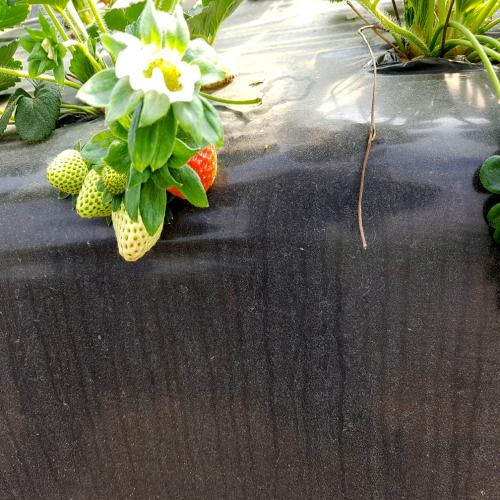unripe: (108, 170, 163, 268), (75, 142, 122, 220)
